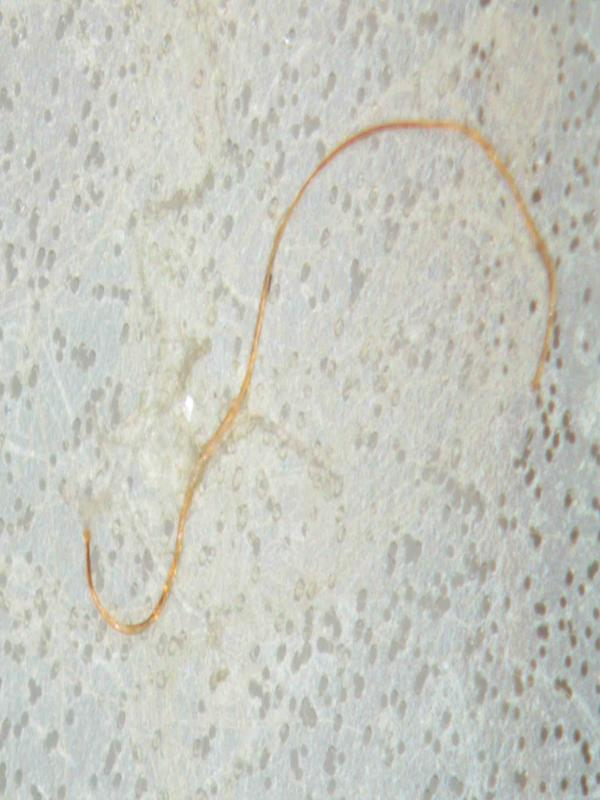microplastic: (81, 116, 558, 636)
